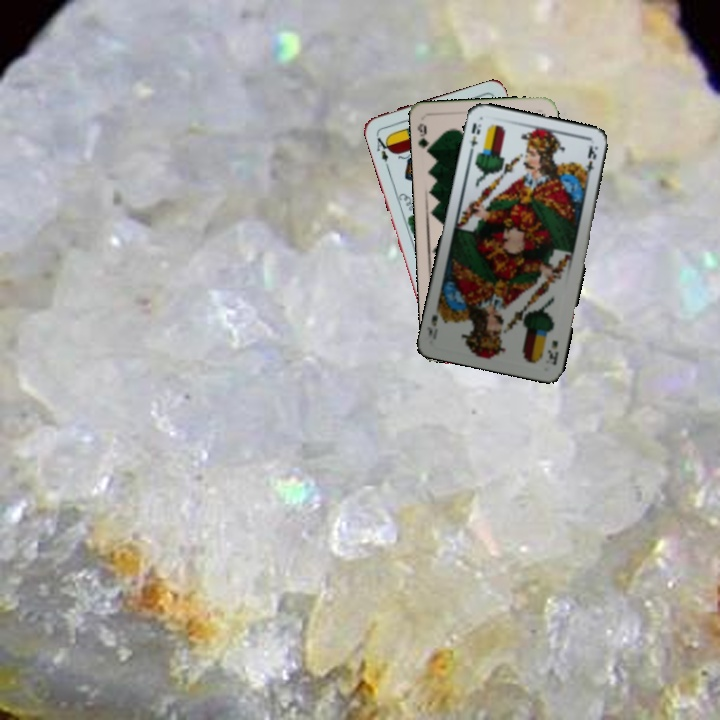EA: (372, 133, 393, 170)
EK: (465, 119, 484, 157), (543, 336, 561, 368)
G9: (413, 119, 434, 157)
